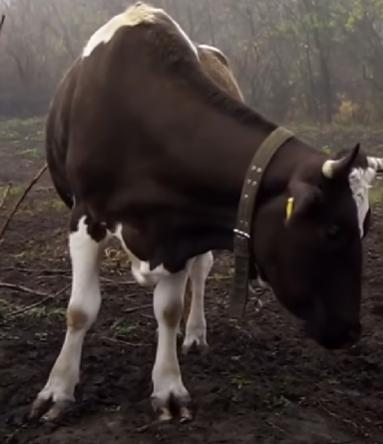cow: (30, 5, 370, 425)
